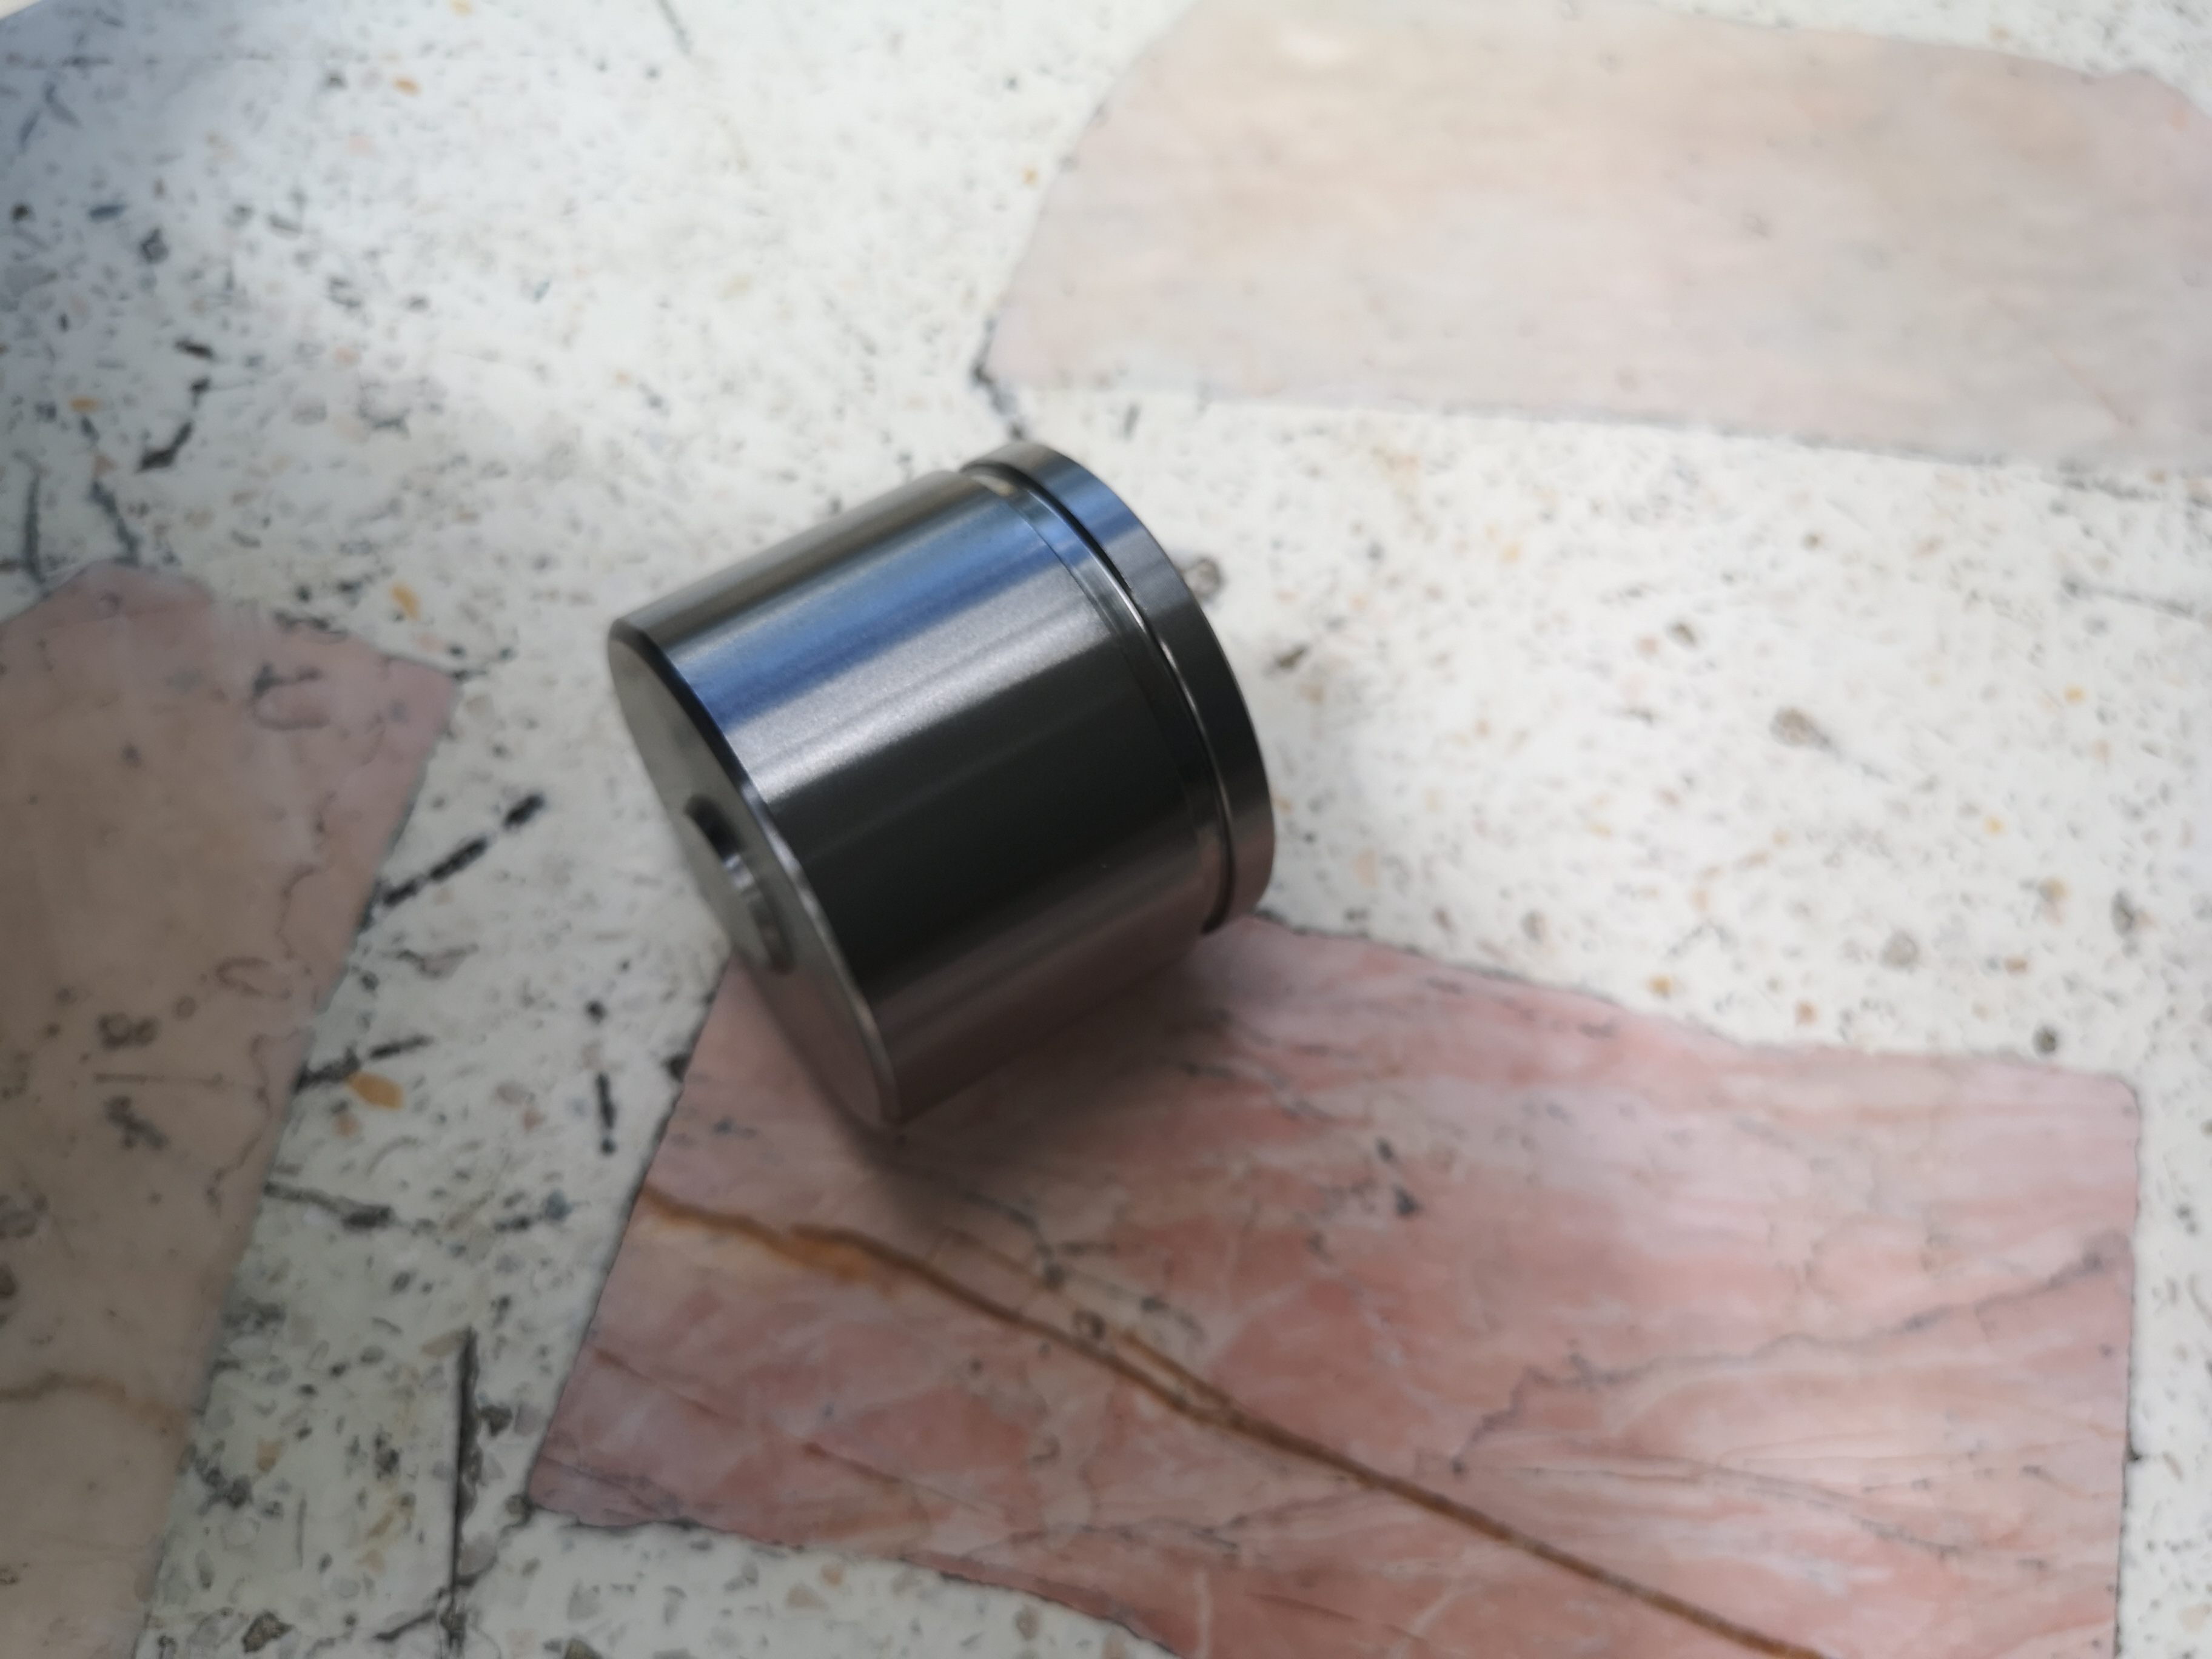ลูกสูบดิสเบรค: (540, 434, 1296, 1190)
